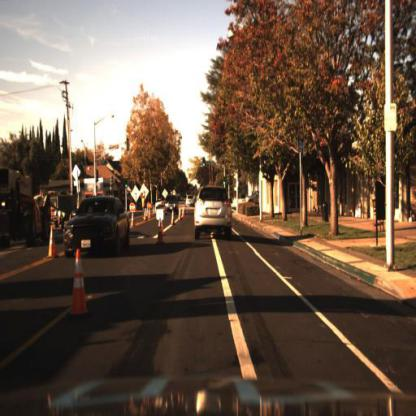car: (58, 192, 135, 258), (194, 186, 235, 243), (164, 194, 182, 218), (184, 190, 198, 208)
pedestrian: (141, 189, 148, 218)
trafficLight: (121, 183, 128, 197)
trafficLight-Green: (220, 177, 228, 191), (202, 154, 207, 171)
